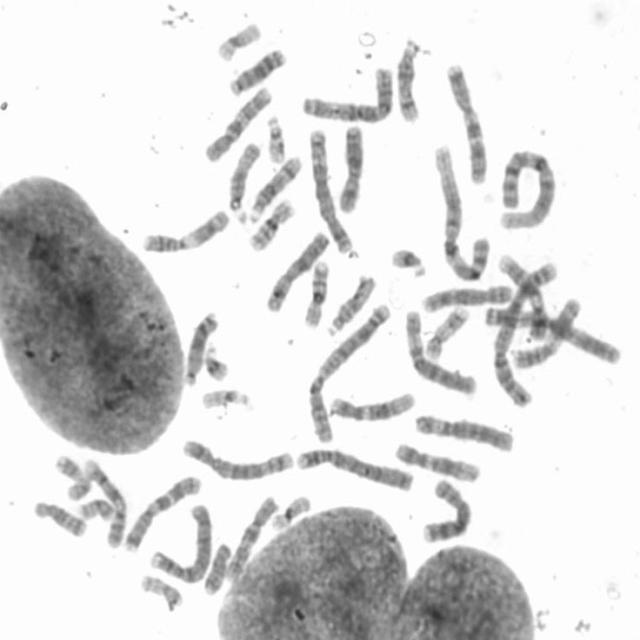A1: (430, 139, 491, 284), (495, 143, 559, 231)
A2: (304, 297, 393, 446), (486, 254, 559, 409)
A3: (482, 301, 625, 367), (298, 61, 397, 124)
B4: (291, 442, 416, 493), (145, 498, 215, 584)
B5: (305, 122, 357, 256), (178, 433, 297, 482)
C10: (201, 79, 275, 165), (222, 488, 281, 580)
C11: (509, 293, 582, 371), (137, 203, 233, 255)
C12: (392, 437, 484, 484), (326, 385, 418, 424)
C6: (401, 304, 480, 396), (411, 408, 516, 454)
C7: (119, 469, 204, 553), (441, 55, 490, 186)
C8: (418, 473, 475, 545), (418, 279, 515, 313)
C9: (493, 250, 553, 344), (78, 454, 129, 549)
D13: (180, 305, 222, 387), (226, 42, 289, 96)
D14: (244, 149, 304, 224), (392, 31, 424, 124)
D15: (323, 268, 378, 338), (224, 137, 264, 222)
E16: (245, 193, 298, 253), (299, 255, 332, 329)
E17: (423, 300, 472, 361), (50, 449, 94, 501)
E18: (30, 494, 90, 540), (200, 537, 234, 596)
F19: (213, 17, 264, 62), (267, 488, 313, 532)
F20: (136, 569, 184, 611), (74, 494, 116, 522)
G21: (386, 241, 430, 279), (201, 340, 231, 382)
G22: (197, 382, 255, 412), (262, 110, 288, 165)
X: (261, 225, 332, 313), (335, 120, 368, 214)
